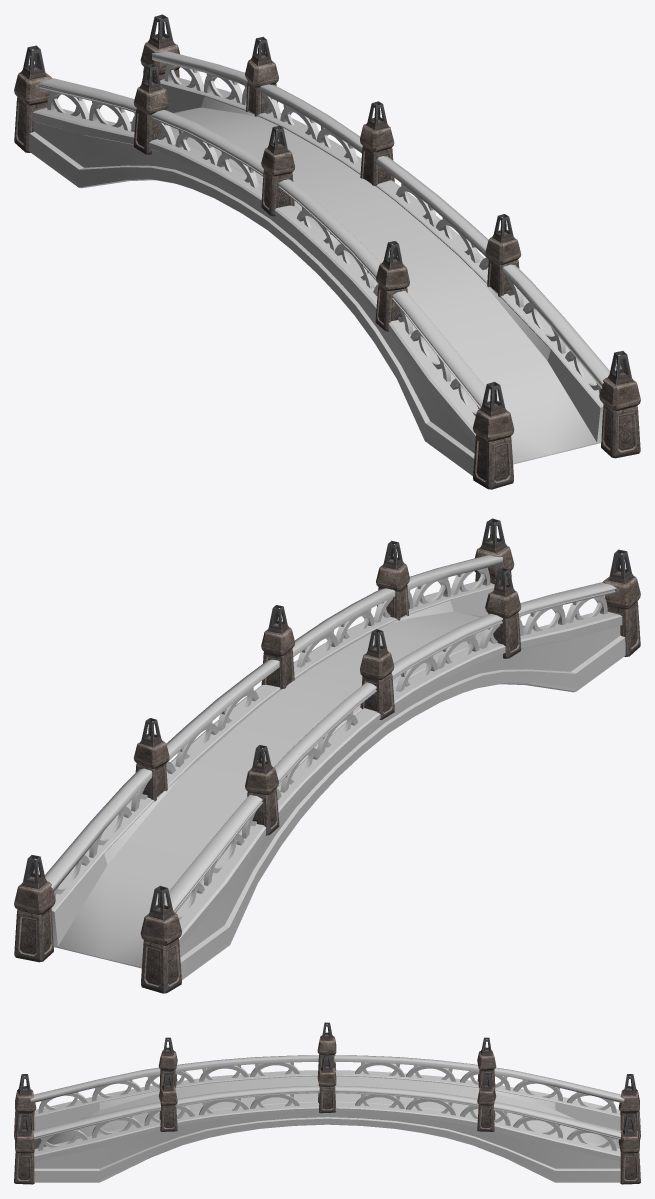
The model's file is Bridge.FBX.
The picture shows the model from 3 angles, top to bottom: view 1: azimuth 30°, elevation 25°; view 2: azimuth 150°, elevation 25°; view 3: azimuth 270°, elevation 25°; orthographic projection. The views are drawn at different scales.
Visible parts, largest first — view 1: Box015; view 2: Box015; view 3: Box015.
Boxes of the visible parts, x1,y1,x2,y2 form: Box015: [14, 14, 640, 489]; Box015: [14, 518, 640, 993]; Box015: [14, 1022, 640, 1184].
Bounding box in the file's own units: 28.79 × 31.87 × 151.
